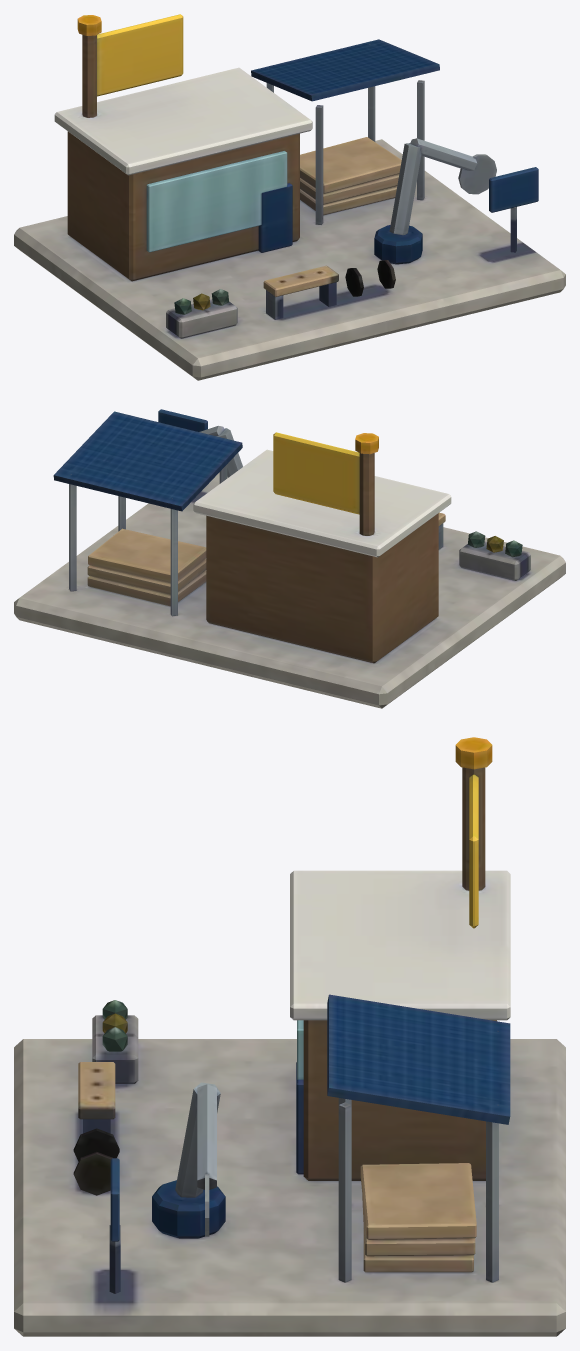
File: lumberyard-25.glb
3 renders of one model, top to bottom at view 1: azimuth 30°, elevation 25°; view 2: azimuth 150°, elevation 25°; view 3: azimuth 270°, elevation 25°, orthographic. The views are drawn at different scales.
Visible parts, largest first — view 1: lumberyard-25; view 2: lumberyard-25; view 3: lumberyard-25.
Boxes of the visible parts, left/top/right/bottom form: lumberyard-25: left=14, top=14, right=565, bottom=380; lumberyard-25: left=14, top=409, right=565, bottom=708; lumberyard-25: left=14, top=737, right=565, bottom=1336.
Size of the model in its own units: 1.41 by 0.86 by 1.2.
1 material, 1 textured.
